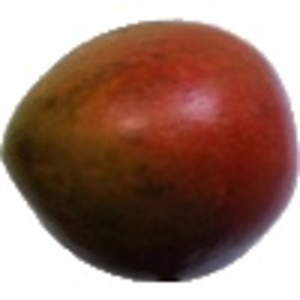manga: (1, 19, 300, 282)
